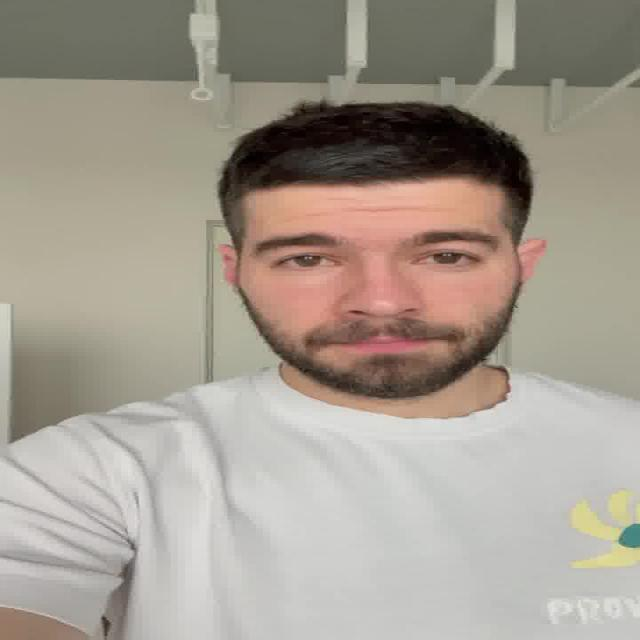earlobe: (516, 266, 536, 286)
eye: (273, 253, 342, 268), (416, 252, 478, 268)
nose: (342, 310, 424, 336)
wholeear: (516, 238, 549, 286), (216, 244, 241, 288)
